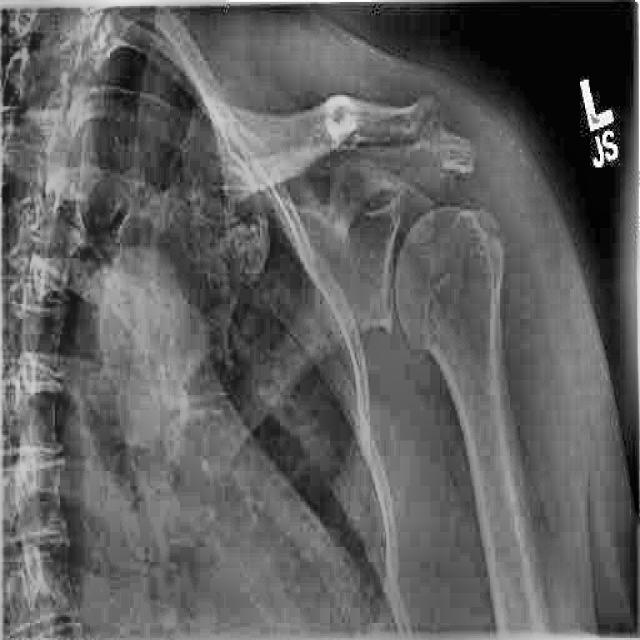shoulder fracture: (446, 196, 514, 292)
